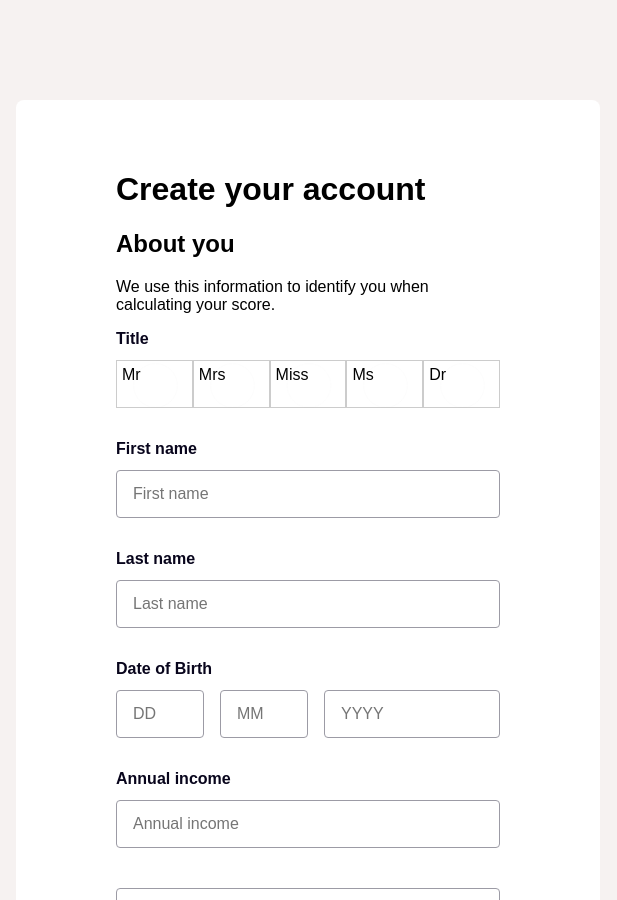
Test: EligibleCards › should throw error if one or more fields are left empty
The image size is (617, 900).
Click the radio button labelled "Mr" at (155, 385), box [121,363,190,408]
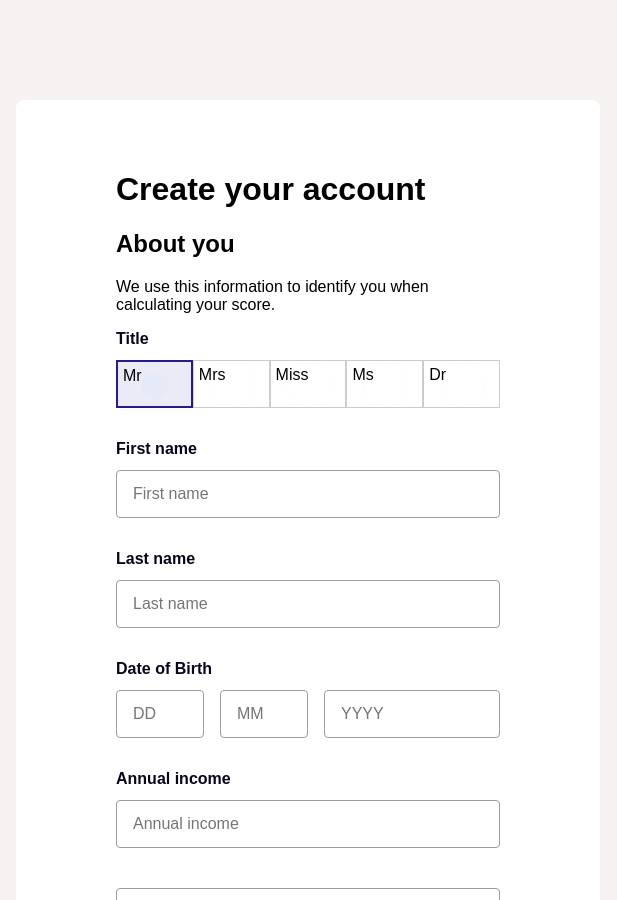
Type "Ollie" into the field with placeholder "First name" at (308, 494), box [116,470,500,518]
(page scrolled)
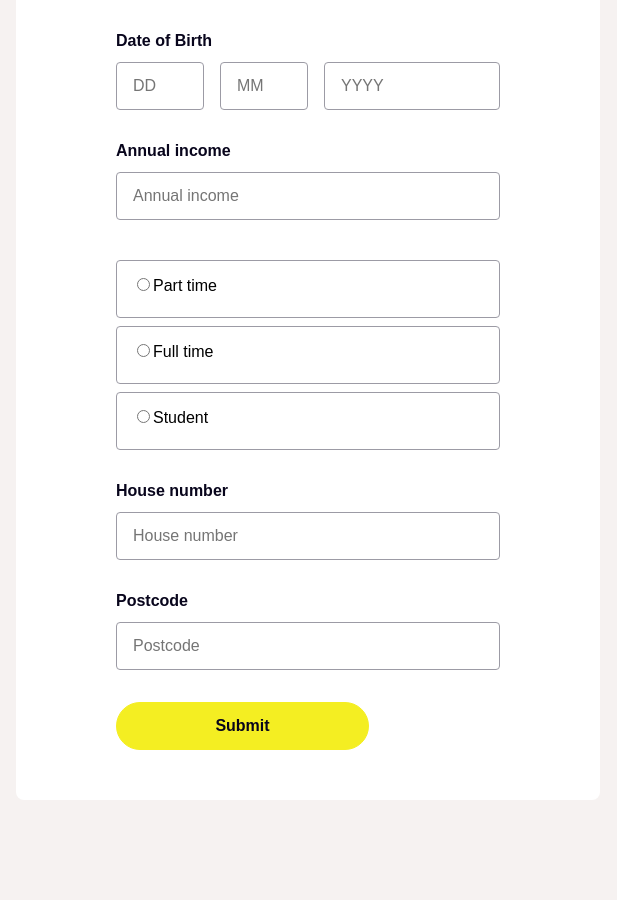
Click the button "Submit" at (242, 726), box [116,702,369,750]
(page scrolled)
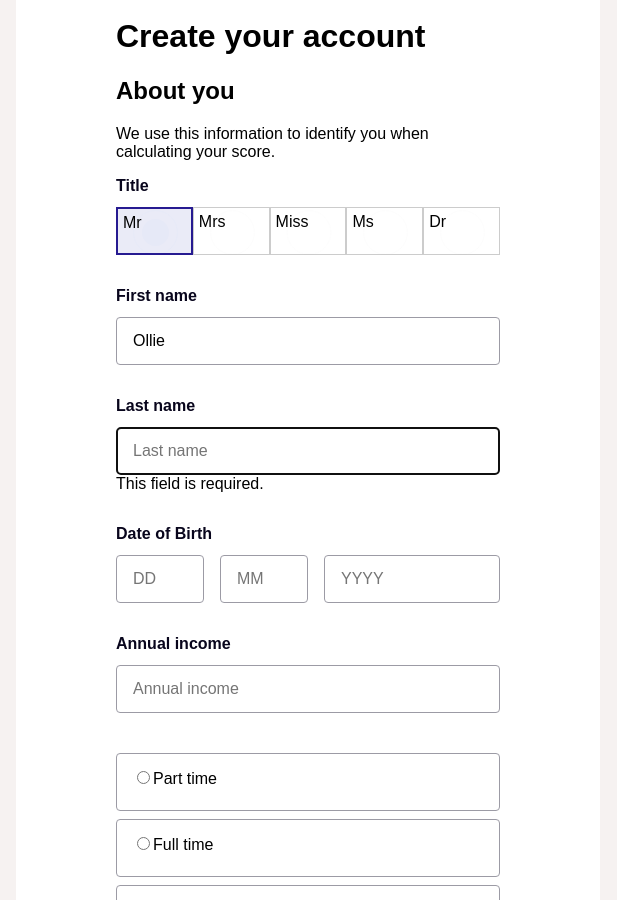
Result: the text "This field is required." is shown at [116,475,264,492]
